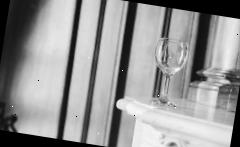glass: (146, 34, 192, 108)
